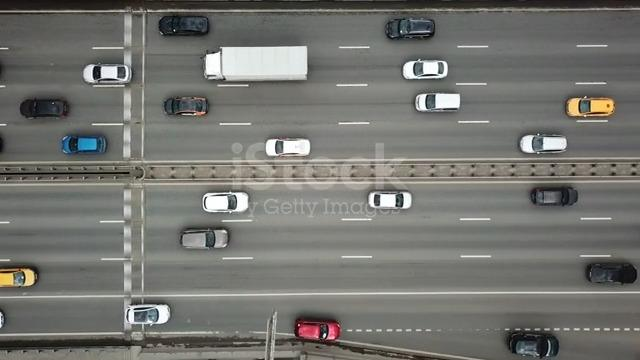Cars: (385, 17, 436, 40), (295, 318, 341, 343), (565, 96, 616, 118), (159, 15, 210, 37), (83, 63, 133, 85), (180, 228, 229, 250), (20, 98, 70, 119), (519, 134, 568, 155), (402, 59, 449, 80), (62, 134, 108, 155), (164, 96, 209, 117), (266, 137, 311, 158), (415, 93, 461, 113), (1, 268, 38, 288)
